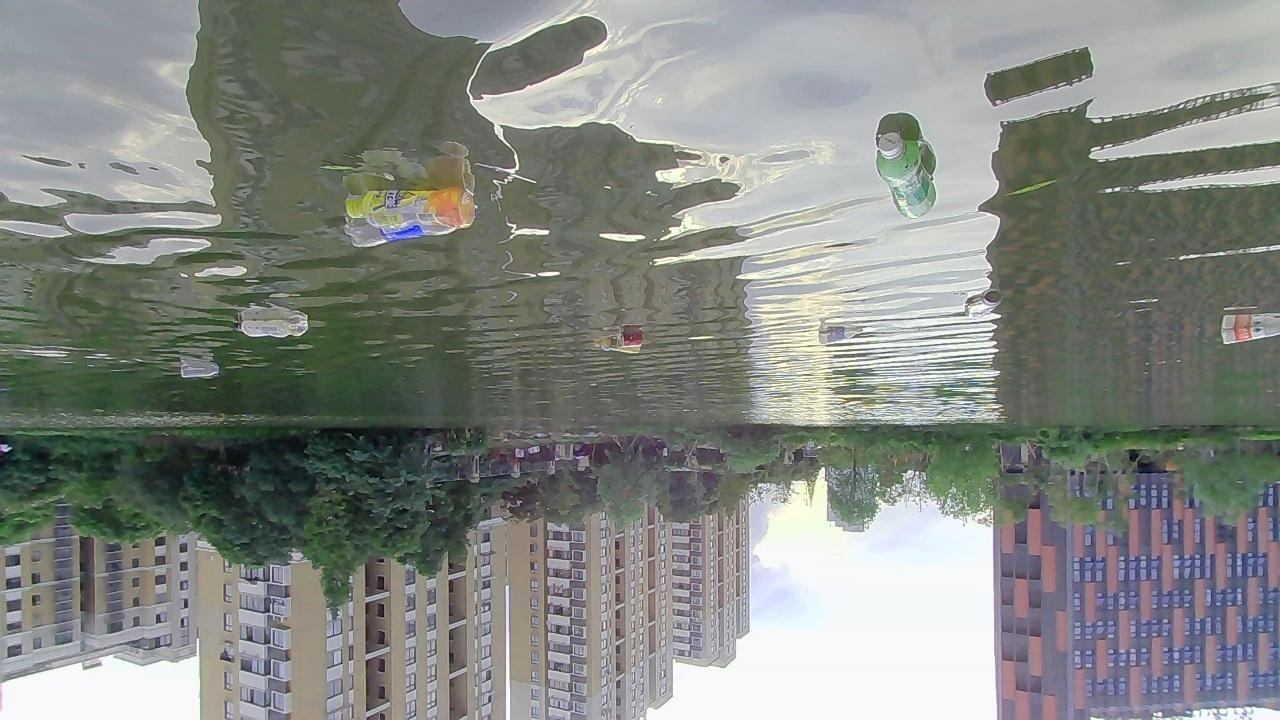Metal: (964, 291, 1003, 320), (617, 332, 645, 348)
Plastic: (873, 129, 937, 223), (345, 188, 476, 229), (342, 213, 458, 249), (233, 317, 309, 339), (1219, 323, 1280, 345), (816, 326, 864, 346), (593, 338, 641, 356), (180, 364, 220, 379)
